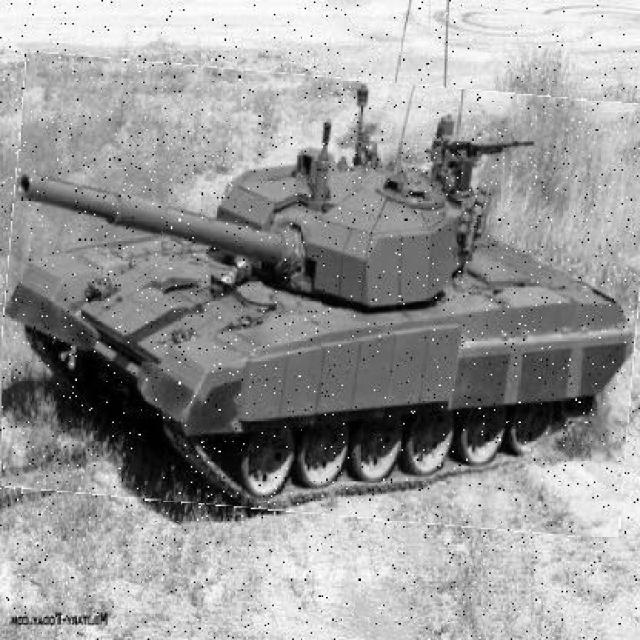Tank: (3, 64, 640, 529)
